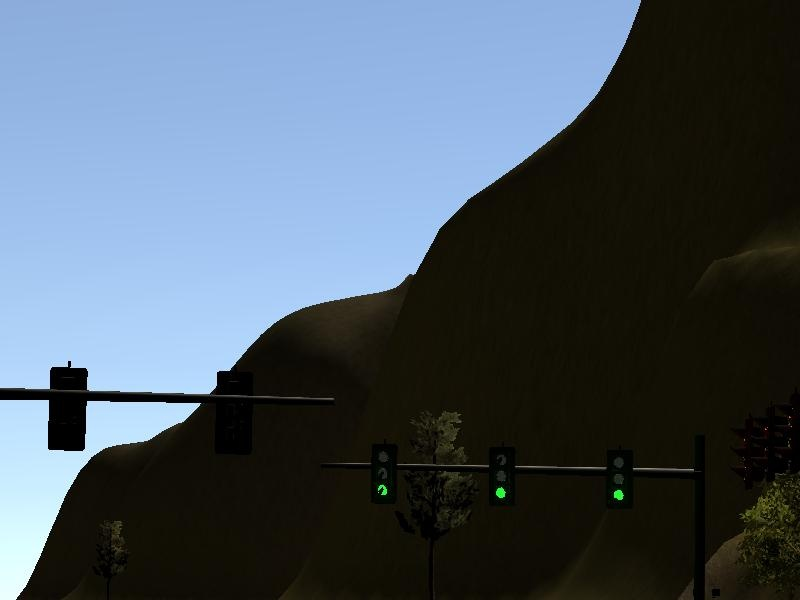green: (372, 444, 396, 504), (607, 452, 632, 509), (490, 450, 515, 507)
